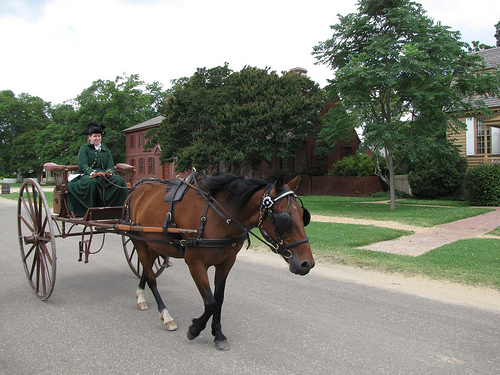horse: (124, 167, 315, 351)
